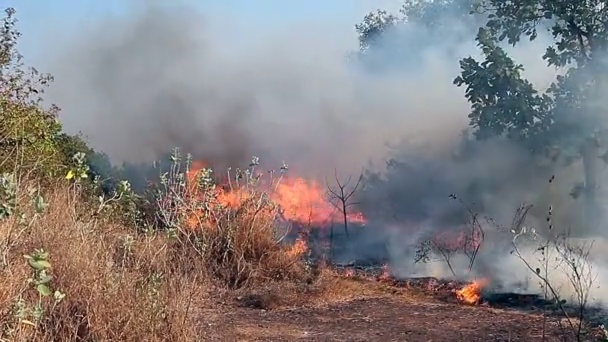fire: (279, 185, 319, 221), (459, 282, 478, 304), (225, 193, 242, 207), (66, 170, 71, 177)
